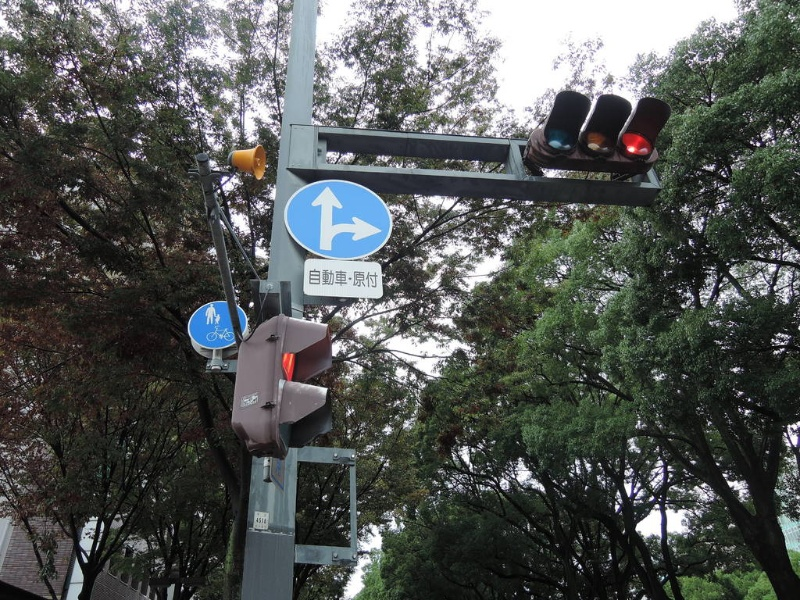cycle_route_ahead: (187, 299, 245, 357)
red_light: (615, 95, 675, 176)
